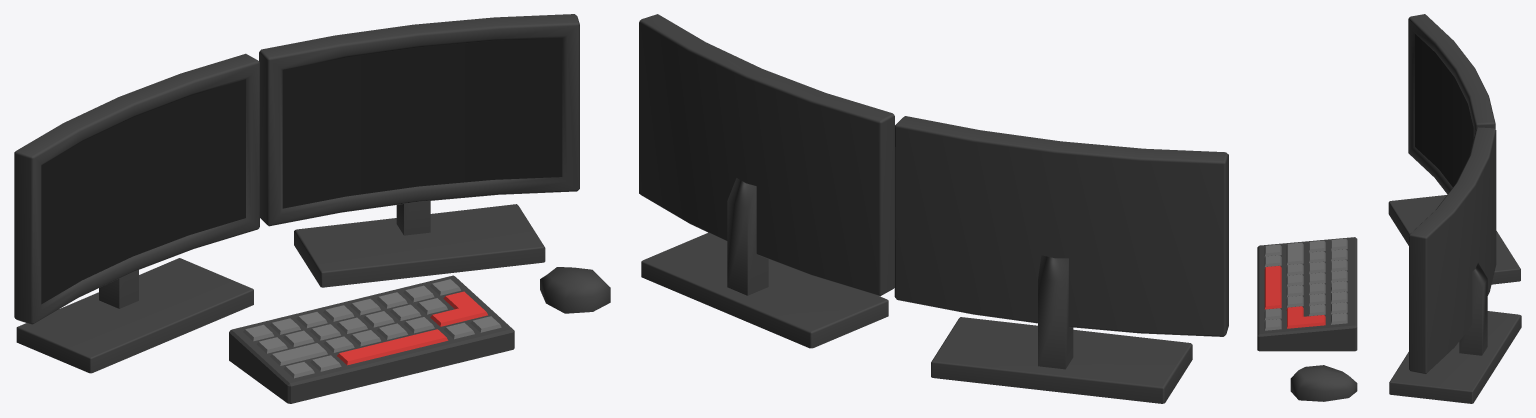
Rendered from work_table_001.fbx.
3 views of the same model, side by side, from view 1: azimuth 30°, elevation 25°; view 2: azimuth 150°, elevation 25°; view 3: azimuth 270°, elevation 25° (orthographic). The views are drawn at different scales.
Parts seen in each view (by area): view 1: work_table_001; view 2: work_table_001; view 3: work_table_001.
Part boxes in pixels (x1,y1,x2,y2): work_table_001: (14, 14, 610, 403); work_table_001: (639, 14, 1228, 403); work_table_001: (1257, 14, 1521, 403).
Size of the model in its own units: 167 by 83.45 by 62.94.
